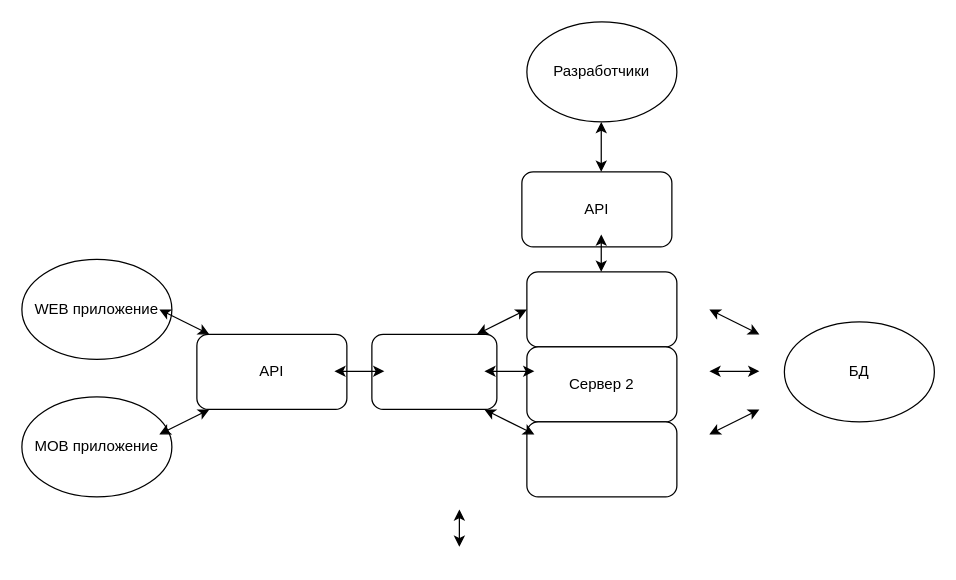
Image size: 956x580. Some labels were removed from this diagram. Each missing label, with the centre of its shape:
балансировщик: (x=434, y=371)
Сервер 1: (x=601, y=309)
Сервер 3: (x=601, y=459)
